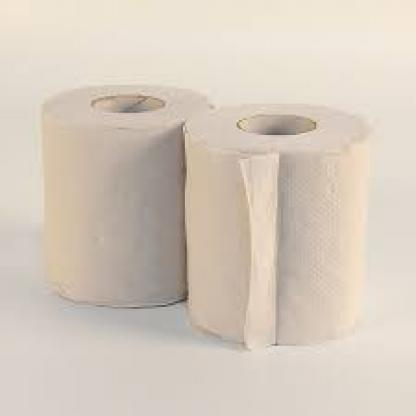tissue: (173, 92, 382, 362)
